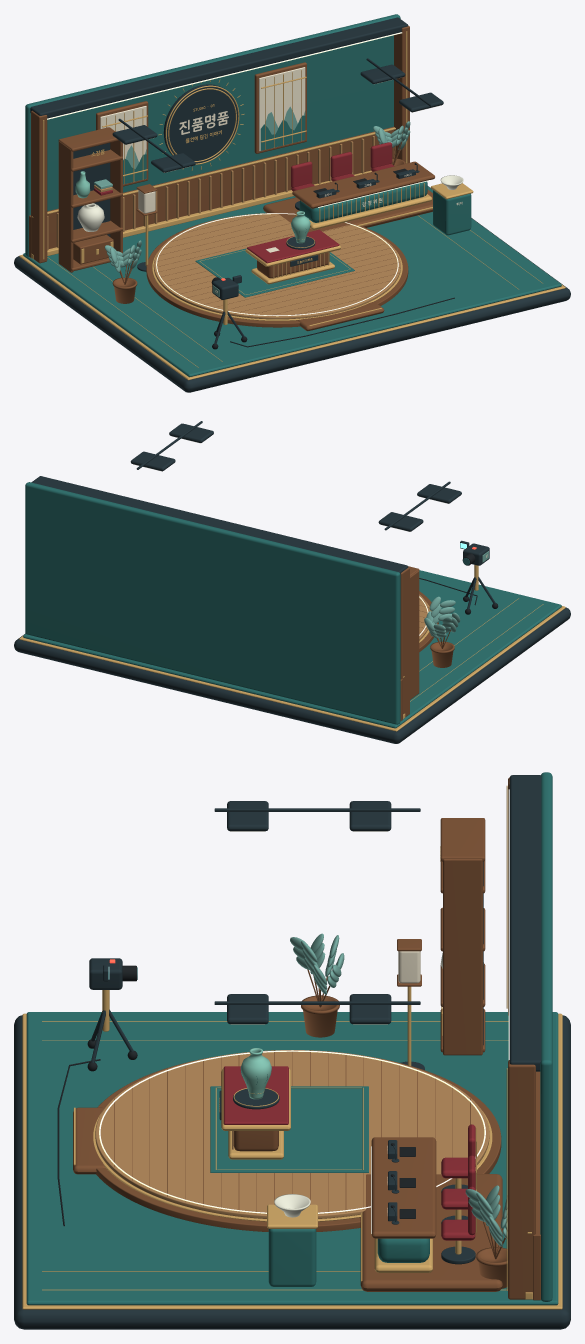
The model's file is studio.glb.
3 renders of one model, top to bottom at view 1: azimuth 30°, elevation 25°; view 2: azimuth 150°, elevation 25°; view 3: azimuth 270°, elevation 25°, orthographic. The views are drawn at different scales.
Visible parts, largest first — view 1: BATCH_01_Architecture_Studio • deep jade, BATCH_01_Architecture_Studio • ink, BATCH_02_MainStage_Studio • honey oak, BATCH_01_Architecture_Studio • walnut, BATCH_01_Architecture_Studio • brushed brass, BATCH_04_Exhibits_Studio • walnut, BATCH_02_MainStage_Studio • walnut, BATCH_03_AppraisalDesk_Studio • walnut, BATCH_01_Architecture_Studio • rice paper, BATCH_05_StudioEquipment_Studio • ink, BATCH_02_MainStage_Studio • deep jade, BATCH_01_Architecture_Studio • honey oak (+15 smaller); view 2: BATCH_01_Architecture_Studio • deep jade, BATCH_01_Architecture_Studio • ink, BATCH_05_StudioEquipment_Studio • ink, BATCH_01_Architecture_Studio • brushed brass, BATCH_04_Exhibits_Studio • walnut, BATCH_01_Architecture_Studio • walnut, BATCH_04_Exhibits_Studio • celadon; view 3: BATCH_01_Architecture_Studio • deep jade, BATCH_02_MainStage_Studio • honey oak, BATCH_01_Architecture_Studio • ink, BATCH_04_Exhibits_Studio • walnut, BATCH_03_AppraisalDesk_Studio • walnut, BATCH_02_MainStage_Studio • deep jade, BATCH_01_Architecture_Studio • brushed brass, BATCH_02_MainStage_Studio • walnut, BATCH_01_Architecture_Studio • walnut, BATCH_05_StudioEquipment_Studio • ink, BATCH_02_MainStage_Studio • brushed brass, BATCH_04_Exhibits_Studio • celadon (+12 smaller).
Part boxes in pixels (x1,y1,x2,y2): BATCH_01_Architecture_Studio • deep jade: (23,14,561,377); BATCH_01_Architecture_Studio • ink: (14,17,570,392); BATCH_02_MainStage_Studio • honey oak: (153,213,400,319); BATCH_01_Architecture_Studio • walnut: (29,25,409,263); BATCH_01_Architecture_Studio • brushed brass: (19,31,565,380); BATCH_04_Exhibits_Studio • walnut: (58,127,405,303); BATCH_02_MainStage_Studio • walnut: (146,213,408,331); BATCH_03_AppraisalDesk_Studio • walnut: (263,161,434,232); BATCH_01_Architecture_Studio • rice paper: (100,67,305,184); BATCH_05_StudioEquipment_Studio • ink: (112,58,443,344); BATCH_02_MainStage_Studio • deep jade: (195,248,354,297); BATCH_01_Architecture_Studio • honey oak: (47,136,395,250); BATCH_01_Architecture_Studio • deep jade: (23,482,561,728); BATCH_01_Architecture_Studio • ink: (14,476,570,743); BATCH_05_StudioEquipment_Studio • ink: (130,421,495,609); BATCH_01_Architecture_Studio • brushed brass: (19,598,565,731); BATCH_04_Exhibits_Studio • walnut: (408,566,454,699); BATCH_01_Architecture_Studio • walnut: (400,567,409,720); BATCH_04_Exhibits_Studio • celadon: (424,596,460,638); BATCH_01_Architecture_Studio • deep jade: (26,772,558,1305); BATCH_02_MainStage_Studio • honey oak: (95,1050,489,1218); BATCH_01_Architecture_Studio • ink: (14,775,570,1329); BATCH_04_Exhibits_Studio • walnut: (301,818,507,1288); BATCH_03_AppraisalDesk_Studio • walnut: (360,1137,502,1291); BATCH_02_MainStage_Studio • deep jade: (210,1086,368,1172); BATCH_01_Architecture_Studio • brushed brass: (22,785,562,1309); BATCH_02_MainStage_Studio • walnut: (73,1050,501,1231); BATCH_01_Architecture_Studio • walnut: (508,777,540,1300); BATCH_05_StudioEquipment_Studio • ink: (89,801,424,1070); BATCH_02_MainStage_Studio • brushed brass: (73,1068,492,1221); BATCH_04_Exhibits_Studio • celadon: (290,933,507,1246).
Bounding box in the file's own units: 12.8 × 5.35 × 10.
